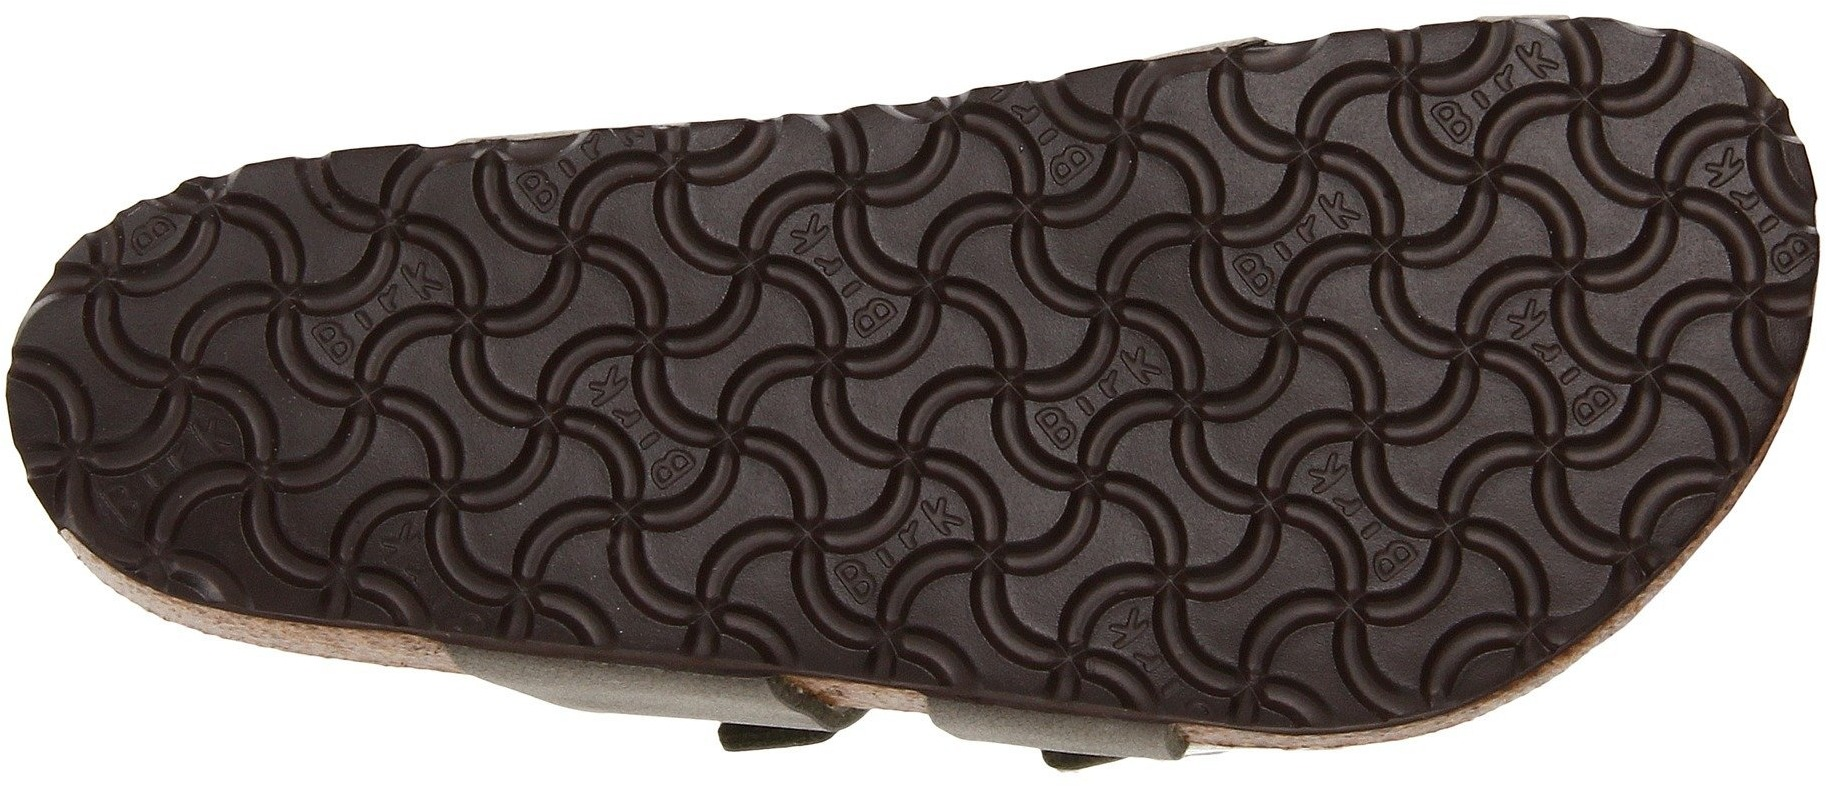bowtie: (814, 116, 1403, 654), (313, 143, 797, 621), (712, 141, 1186, 614), (252, 187, 675, 585), (1224, 136, 1468, 422), (71, 267, 312, 501), (1470, 29, 1673, 220), (532, 323, 737, 507), (1006, 309, 1186, 480), (1428, 461, 1608, 626), (1482, 272, 1659, 440)
text: (712, 141, 1186, 614), (252, 187, 675, 585), (1224, 136, 1468, 422)
